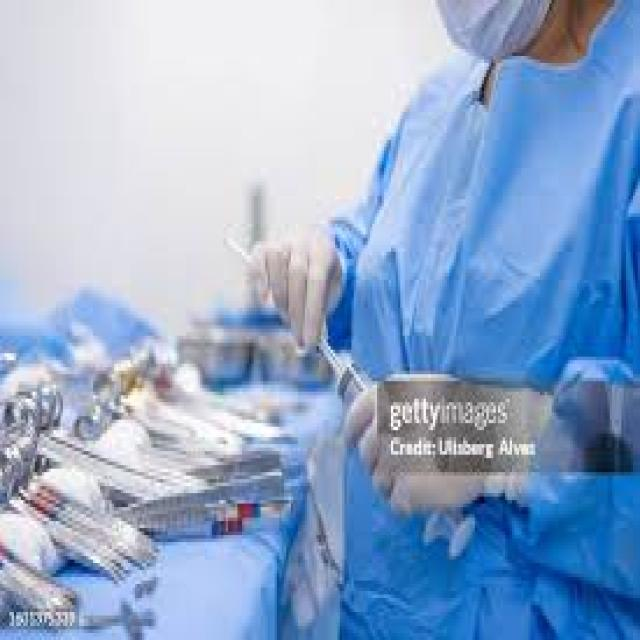tools_table: (0, 252, 262, 637)
